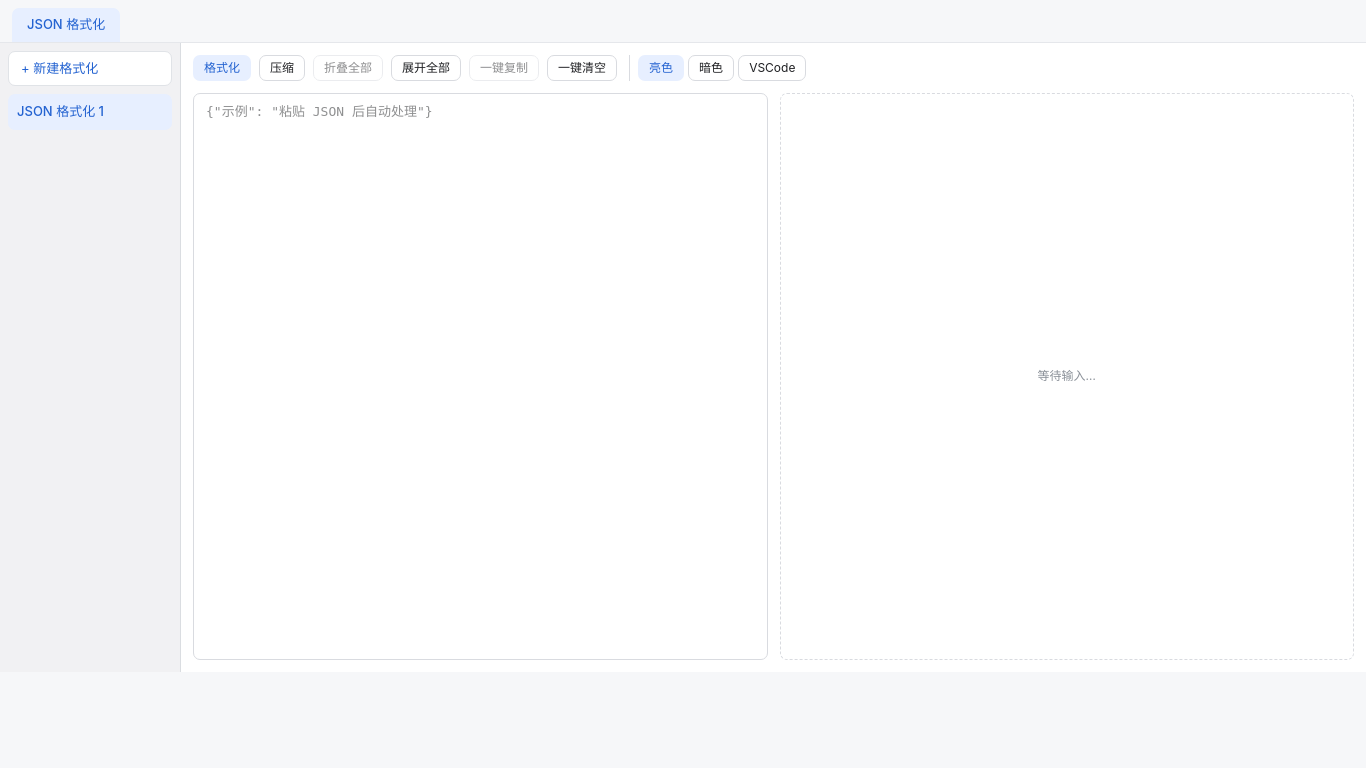
Test: ToolsPage JSON 工具 › cancels renaming with Escape and keeps the original title
Expected: the text box named "JSON 输入" is shown, [193,92,768,660]
Double-click the button "JSON 格式化 1".
double_click(77, 112)  # box [9,95,145,128]
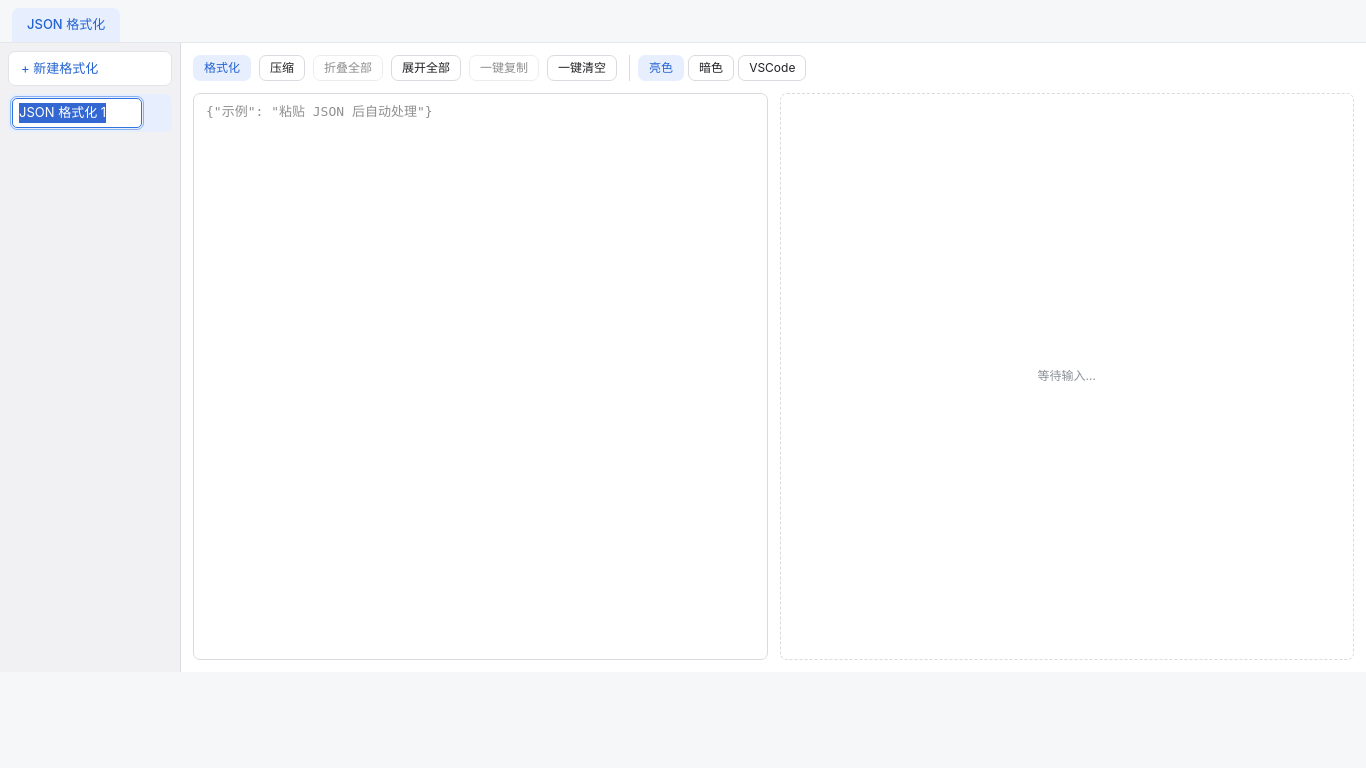
Replace the text in the field named "页签名称" with "临时名字" at x=77, y=113, box [12,98,142,128]
Then press Escape
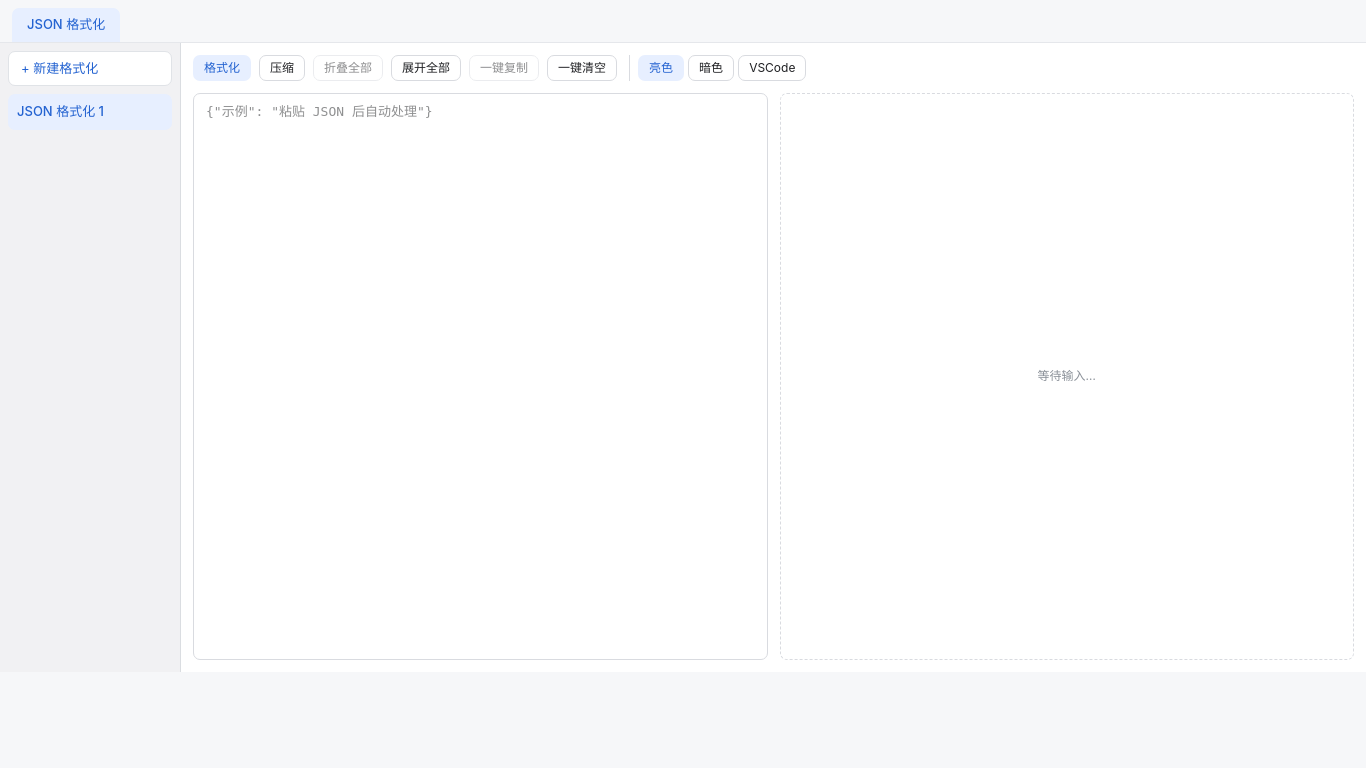
Now the button "JSON 格式化 1" is shown, box [9,95,145,128]
Now the field labelled "页签名称" is gone
